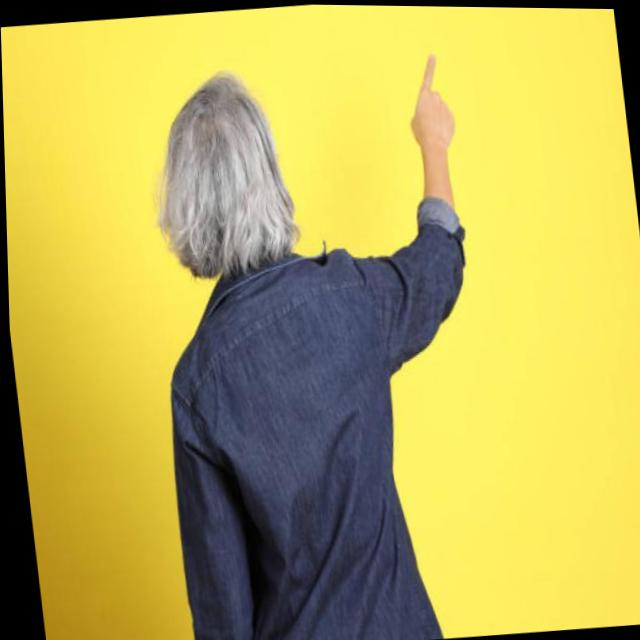no helmet: (150, 72, 295, 291)
